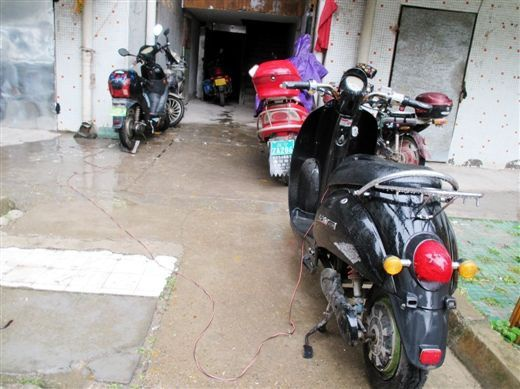non-vehicle: (278, 74, 461, 383), (234, 54, 308, 187), (100, 42, 167, 150)
